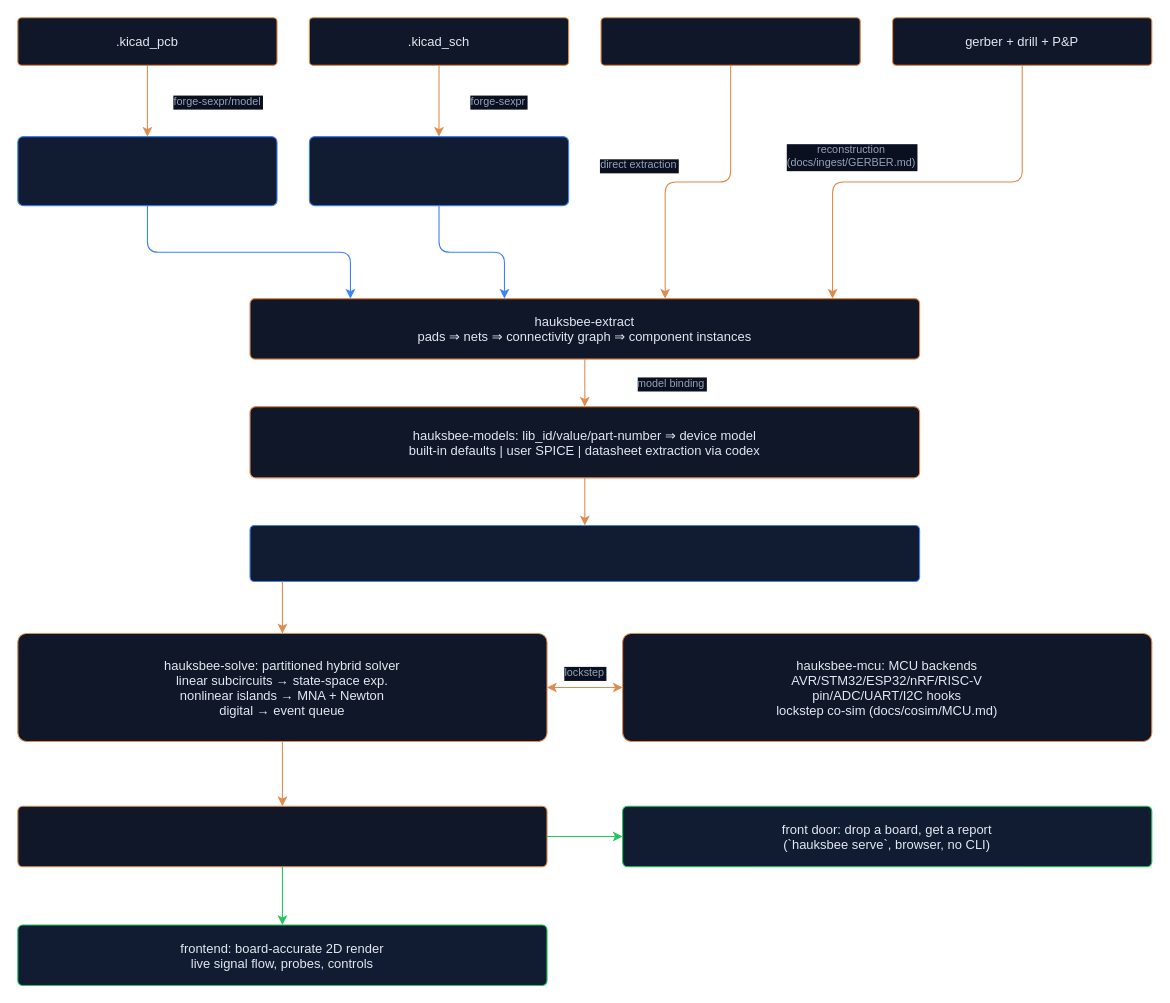
Image size: 1170x1003. Some labels were removed from this diagram. Each missing label, with the centre of its shape:
.brd / .d356: the point at 730,41
derived netlist (see docs/ingest/SCHEMATICS.md): the point at 438,171
hauksbee-ir: Circuit IR devices, nodes, parameters, parasitics (optional): the point at 584,553
hauksbee-server: websocket protocol (frames, probes, controls): the point at 282,836
typed board (kicad-forge): the point at 147,171
